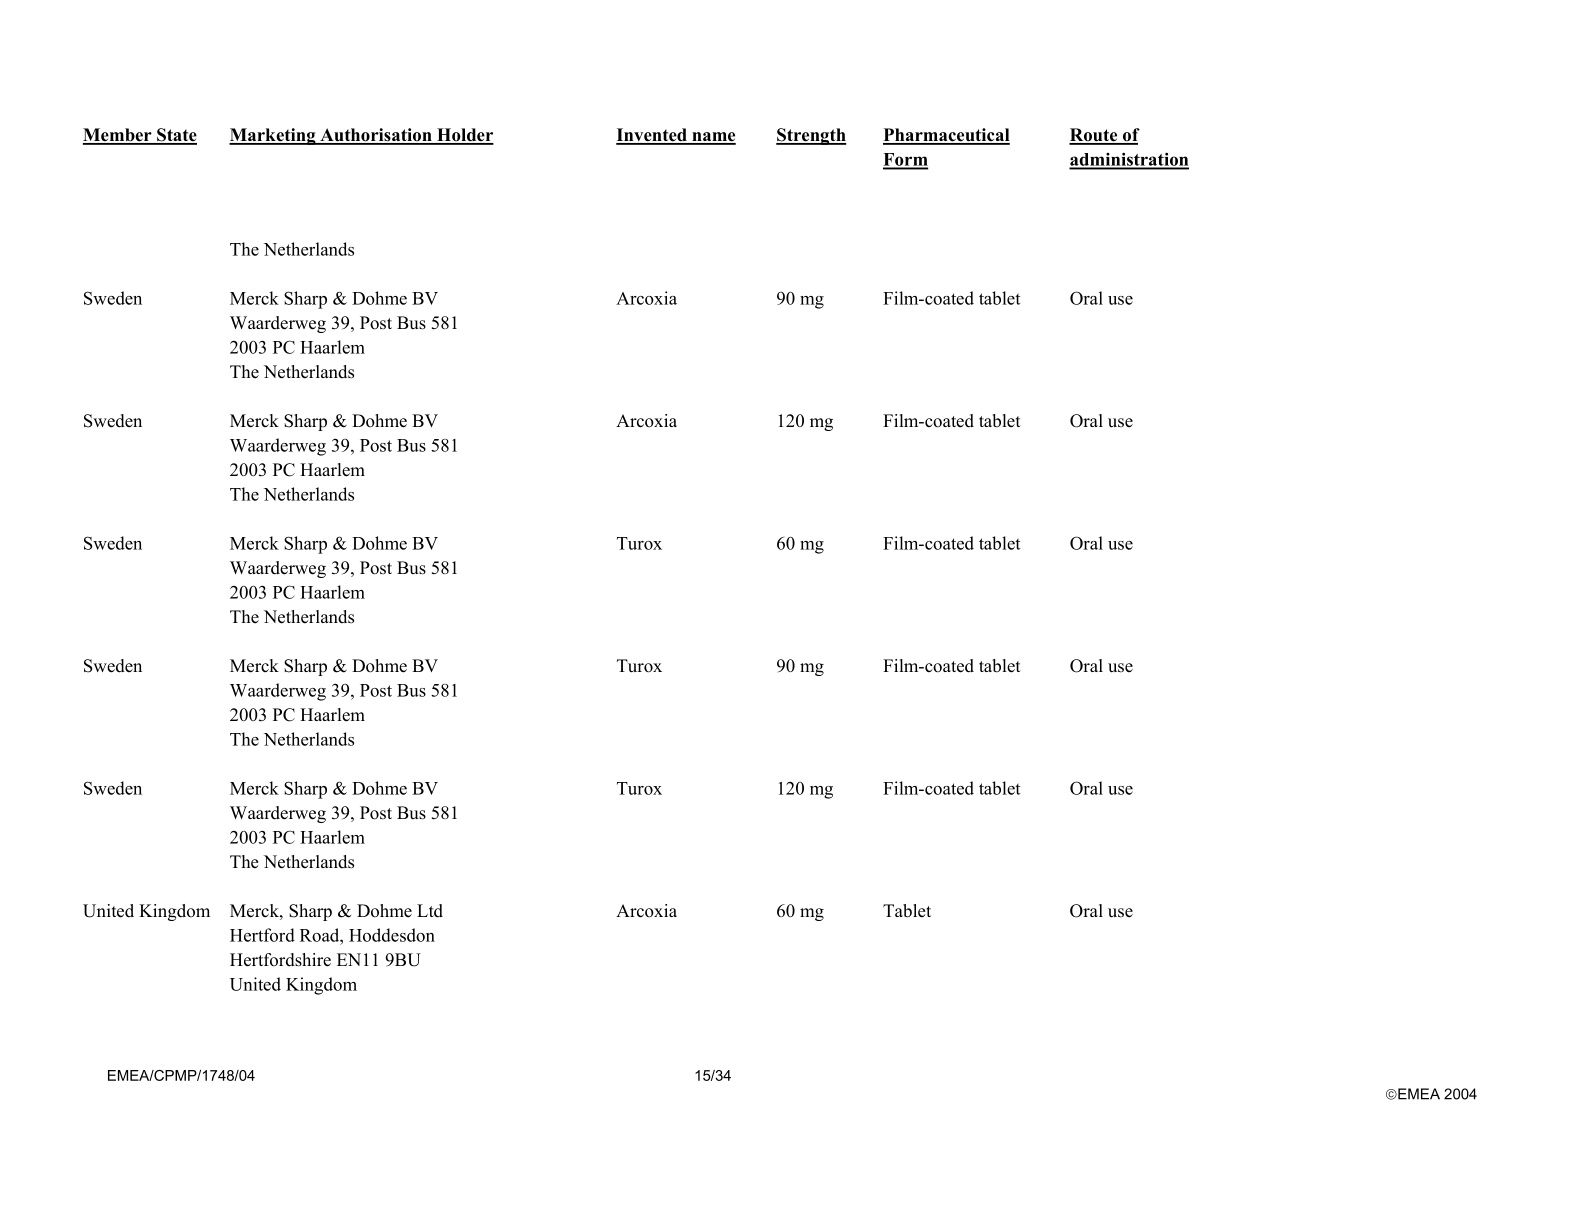nolines: (77, 122, 1193, 995)
